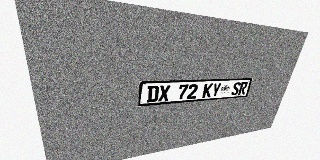plate: (138, 78, 253, 107)
